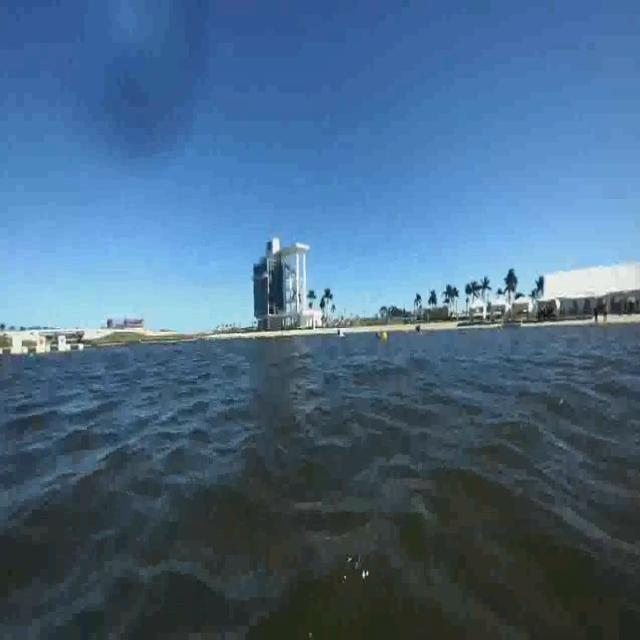yellow-buoy: (382, 332, 389, 344)
